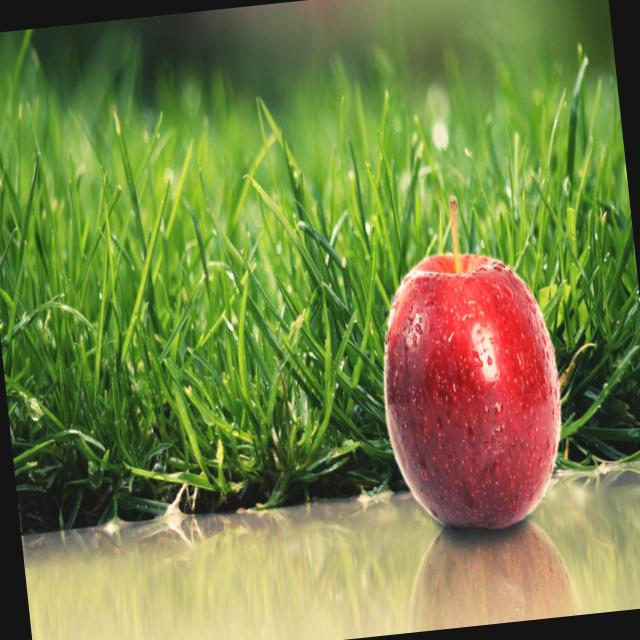apple: (365, 240, 572, 548)
